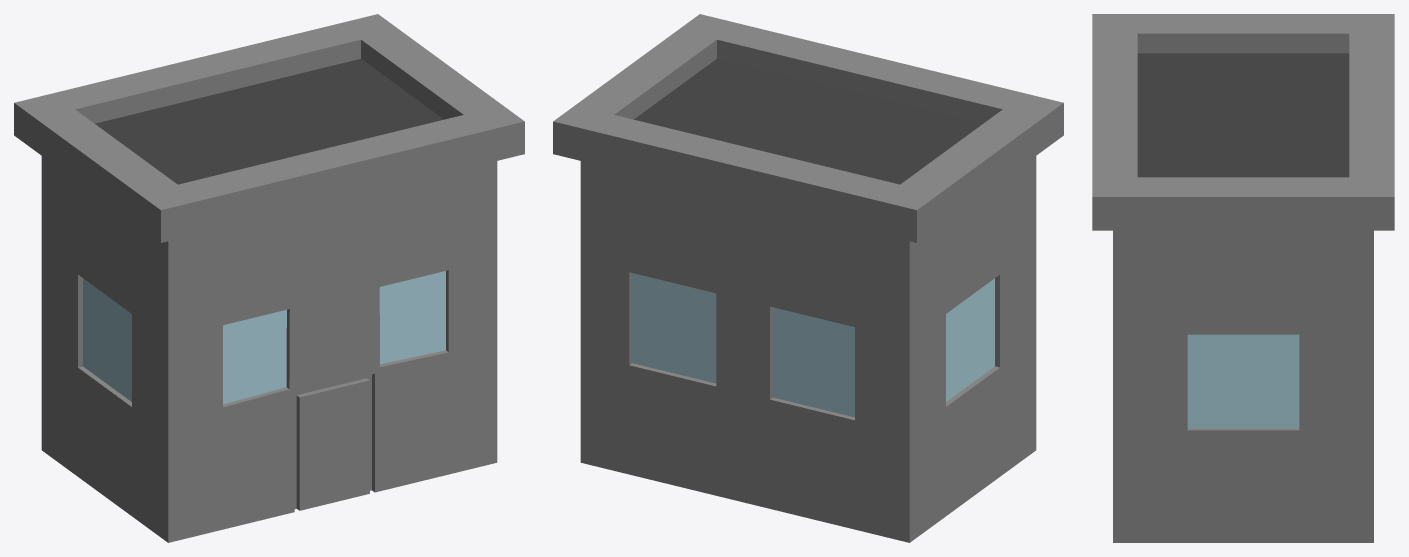
The model's file is M_House_02.FBX.
3 renders of one model, left to right at view 1: azimuth 30°, elevation 25°; view 2: azimuth 150°, elevation 25°; view 3: azimuth 270°, elevation 25°, orthographic. The views are drawn at different scales.
Visible parts, largest first — view 1: Box003; view 2: Box003; view 3: Box003.
Part boxes in pixels (x1,y1,x2,y2): Box003: (14, 14, 524, 542); Box003: (553, 14, 1063, 542); Box003: (1092, 14, 1394, 542).
Size of the model in its own units: 3.32 by 2.32 by 3.
